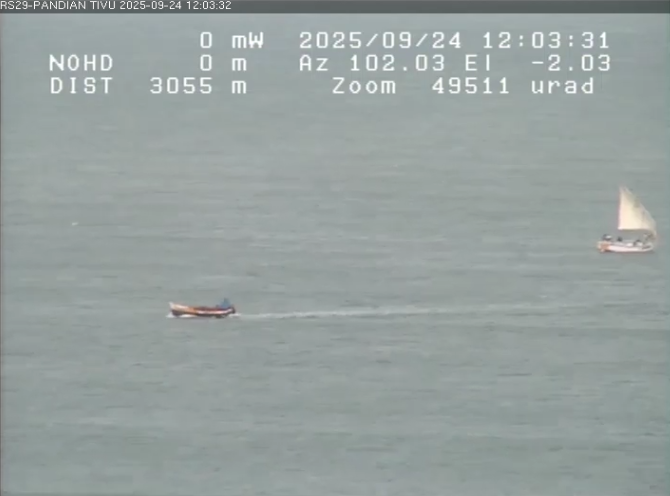FISHING_BOAT: (145, 286, 244, 327)
SAIL_BOAT: (582, 185, 660, 270)
